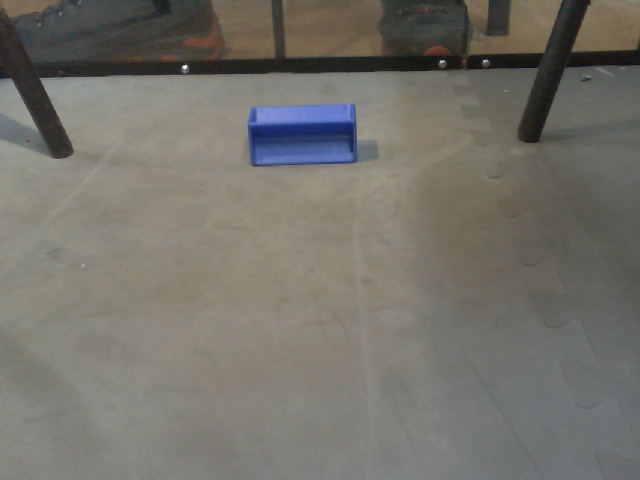BlueSample: (244, 102, 361, 168)
